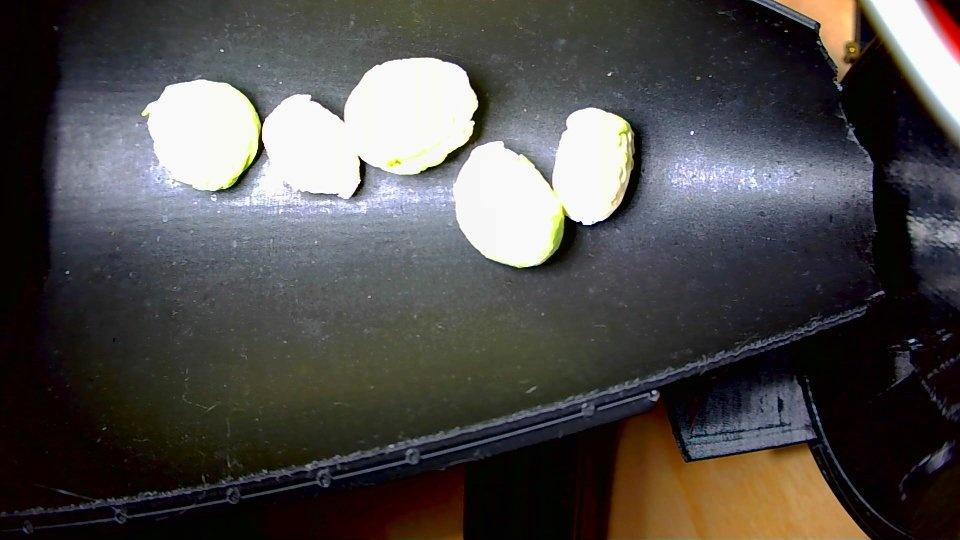berry: (344, 58, 477, 174), (454, 141, 564, 267), (142, 79, 259, 190), (262, 94, 360, 198), (552, 108, 633, 224), (217, 128, 217, 129)
